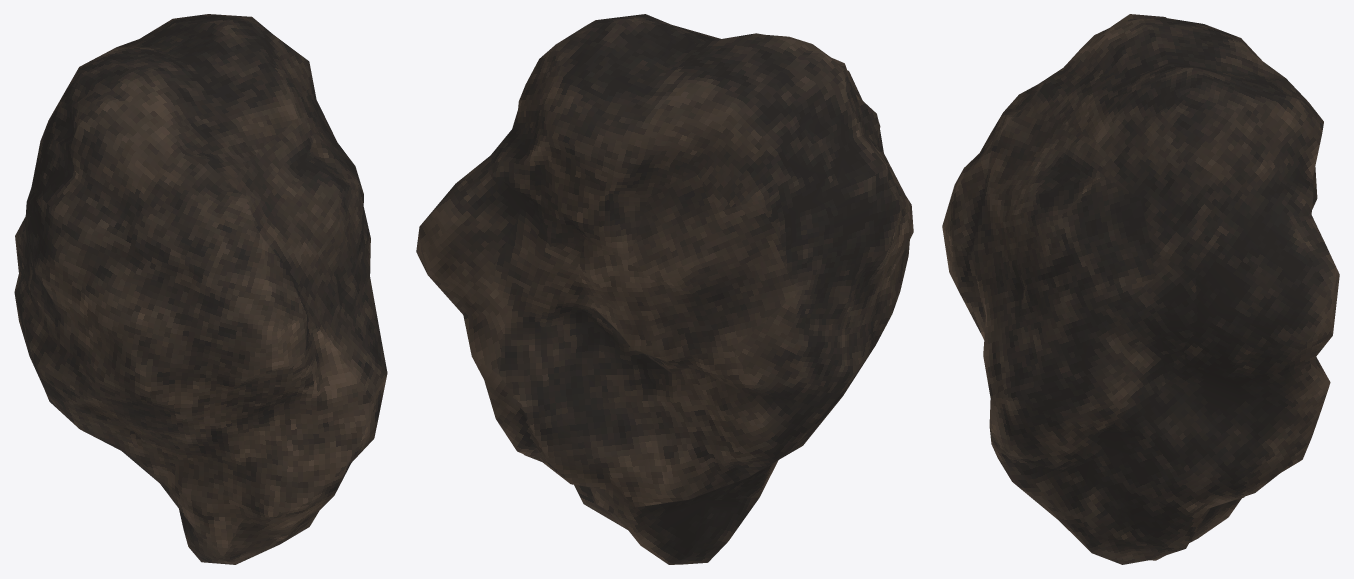
Rendered from SM_RP2_Rock_2m_1.002.glb.
The picture shows the model from 3 angles, left to right: view 1: azimuth 30°, elevation 25°; view 2: azimuth 150°, elevation 25°; view 3: azimuth 270°, elevation 25°; orthographic projection. The views are drawn at different scales.
Visible parts, largest first — view 1: SM_RP2_Rock_2m_1.002; view 2: SM_RP2_Rock_2m_1.002; view 3: SM_RP2_Rock_2m_1.002.
Part boxes in pixels (<box>): SM_RP2_Rock_2m_1.002: <box>14,14,387,564</box>; SM_RP2_Rock_2m_1.002: <box>416,14,913,564</box>; SM_RP2_Rock_2m_1.002: <box>942,14,1339,564</box>.
Size of the model in its own units: 2.35 by 3.26 by 2.31.
Materials: 1 (1 with a texture image).
